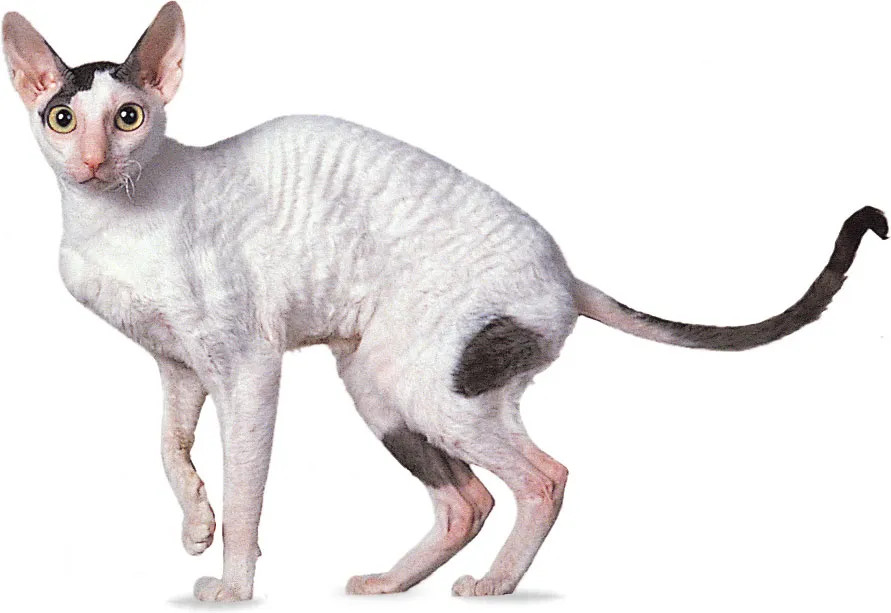cat: (1, 0, 890, 605)
